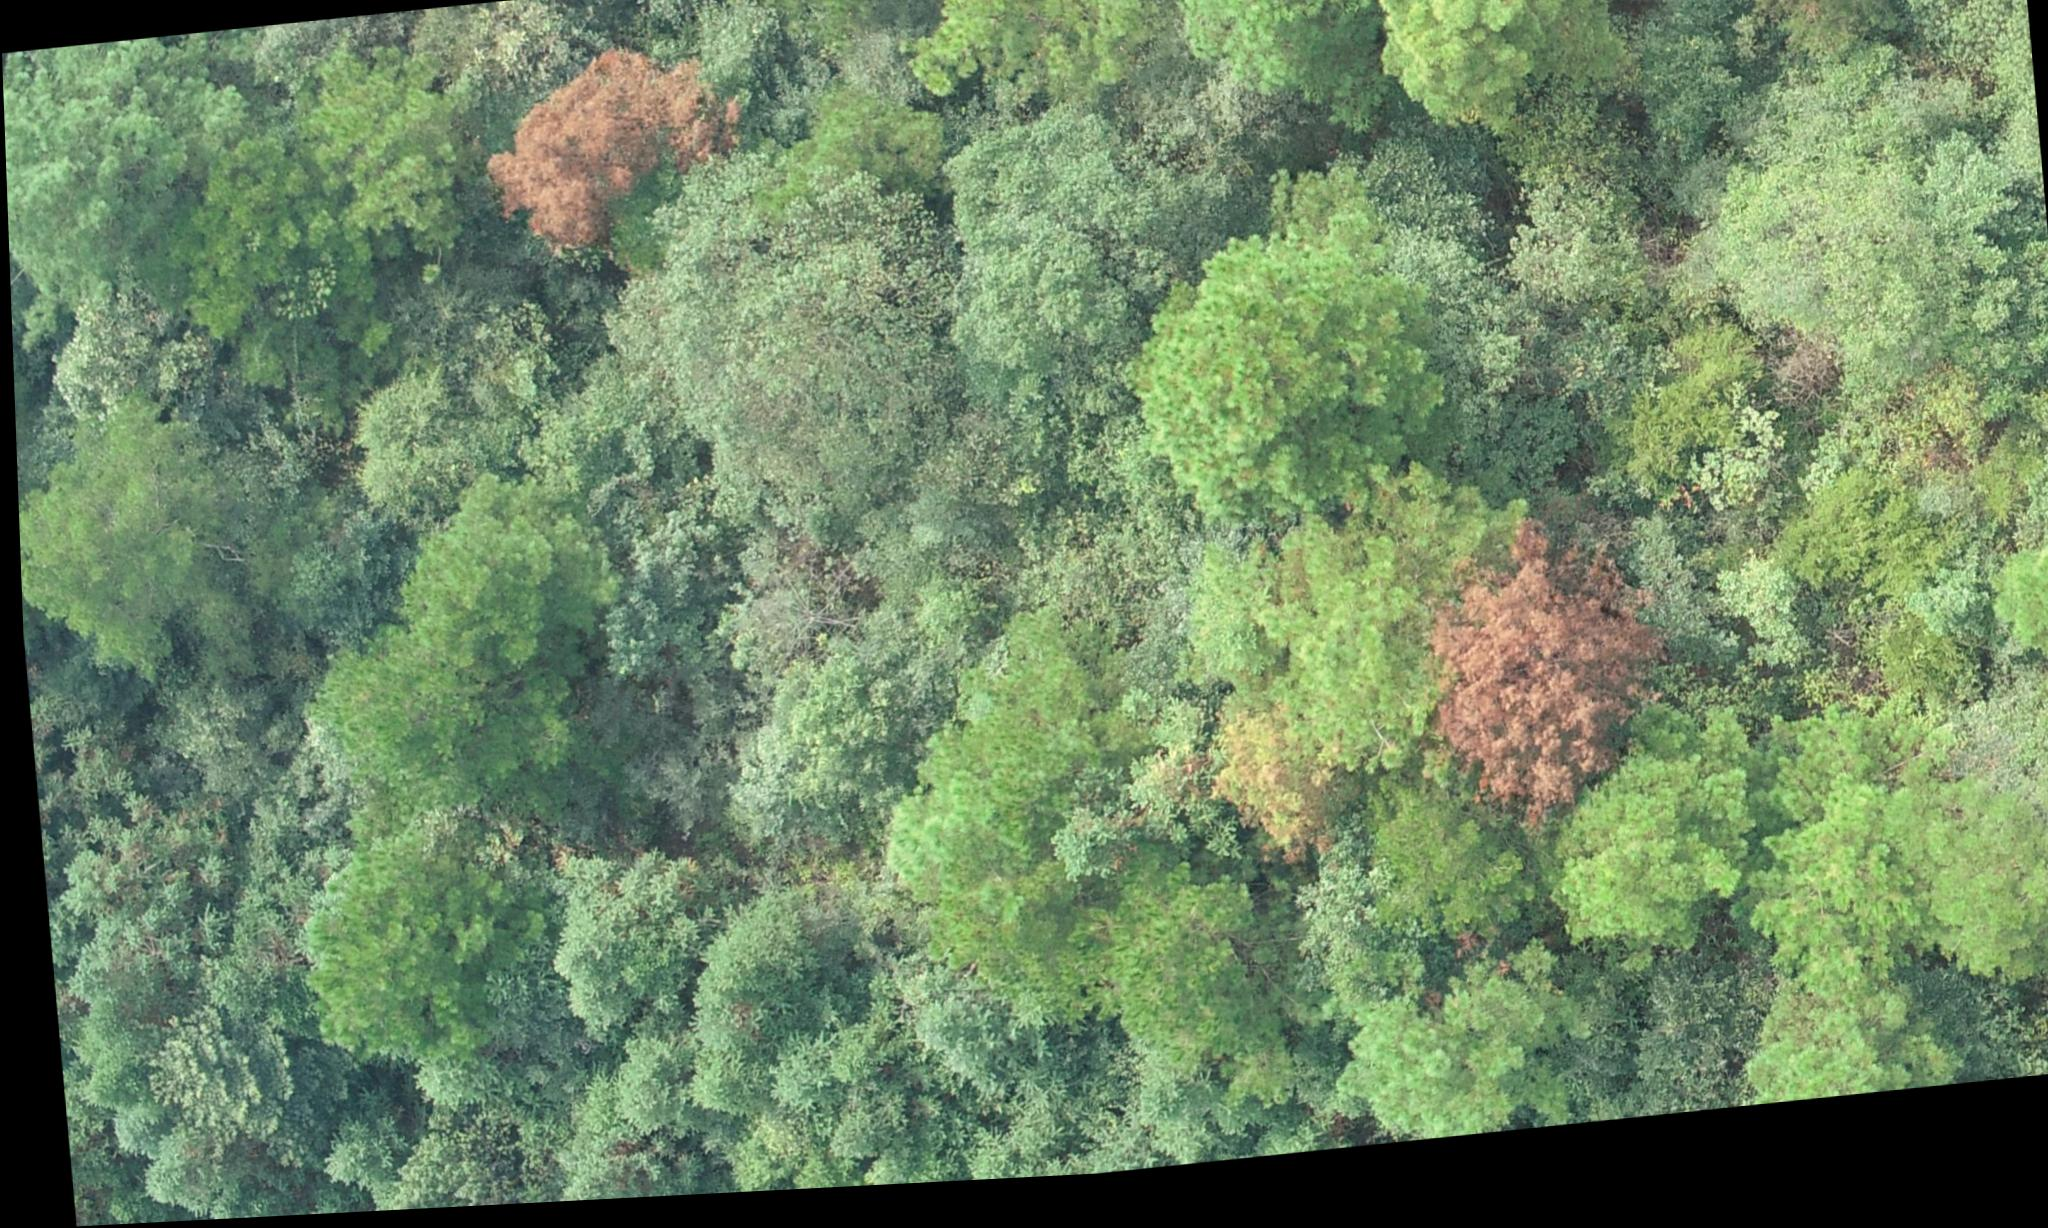heavy: (1419, 538, 1661, 833), (466, 35, 741, 281)
light: (1181, 713, 1329, 882)
